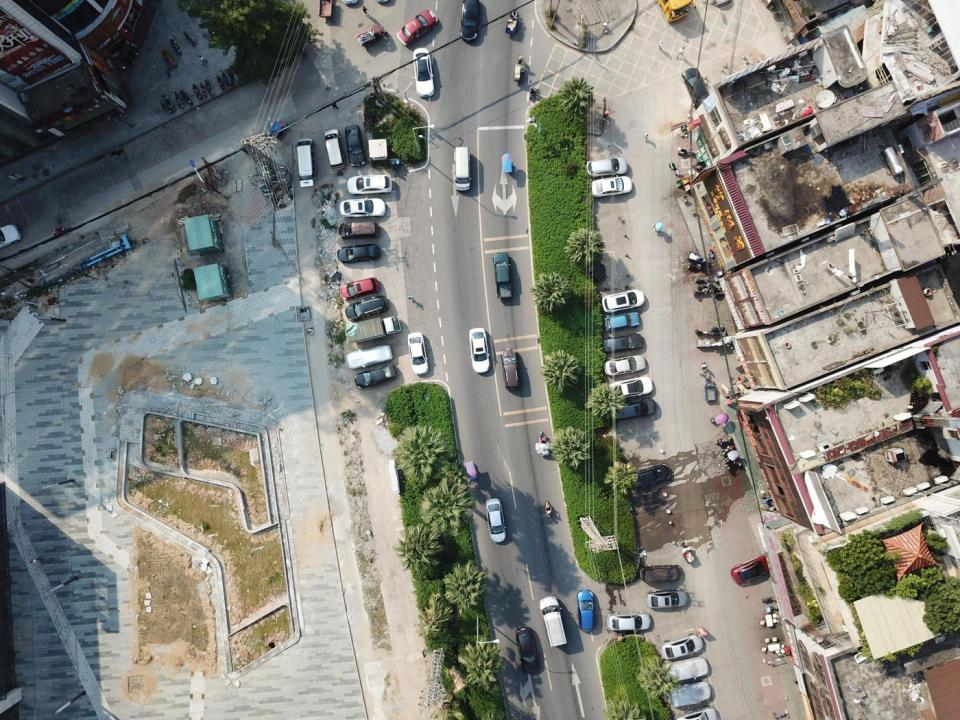car: (396, 7, 438, 46), (730, 552, 776, 584), (682, 68, 712, 111), (345, 344, 393, 370), (663, 656, 709, 682), (608, 376, 654, 402), (345, 294, 389, 321), (661, 633, 704, 660), (667, 681, 711, 707), (412, 47, 434, 97), (355, 363, 397, 389), (628, 463, 670, 489), (516, 626, 539, 673), (468, 327, 490, 373), (485, 498, 507, 543), (339, 197, 386, 218), (407, 331, 429, 375), (346, 174, 392, 195), (602, 289, 644, 312), (344, 124, 366, 167), (645, 588, 688, 610), (605, 354, 646, 377), (459, 0, 481, 42), (607, 611, 651, 632), (591, 175, 633, 197), (586, 156, 628, 178), (340, 277, 379, 300), (337, 243, 380, 263), (602, 333, 644, 353), (577, 589, 596, 632), (604, 311, 641, 332), (674, 705, 720, 720), (0, 223, 21, 249)
truck: (345, 315, 400, 343), (493, 252, 512, 298)
van: (539, 596, 567, 647), (295, 138, 317, 187), (323, 128, 346, 171), (614, 397, 657, 420), (452, 147, 472, 191), (500, 348, 520, 390), (640, 564, 682, 583), (338, 220, 379, 239)
